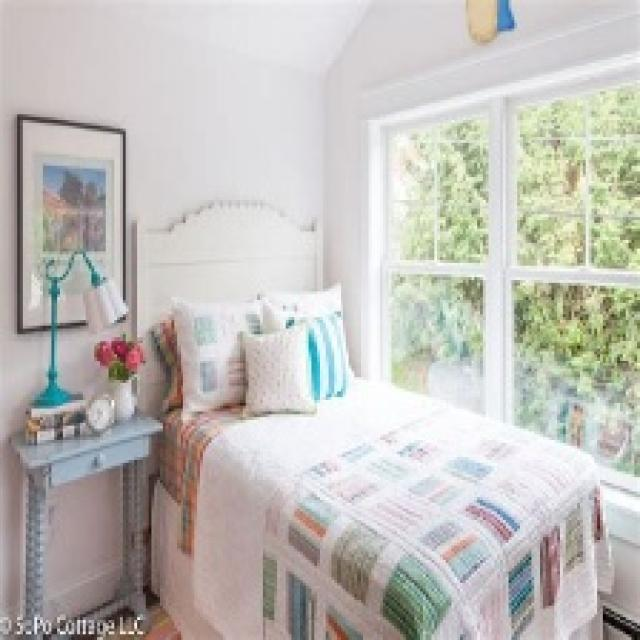Bed: (132, 197, 612, 637)
lamp: (42, 246, 126, 408)
